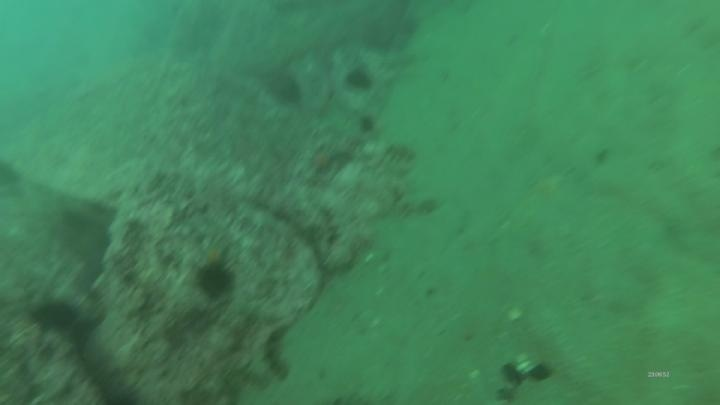echinus: (28, 297, 81, 335), (194, 261, 236, 301), (263, 68, 305, 108), (342, 65, 376, 96)
starfish: (304, 142, 345, 179), (198, 238, 232, 271)
